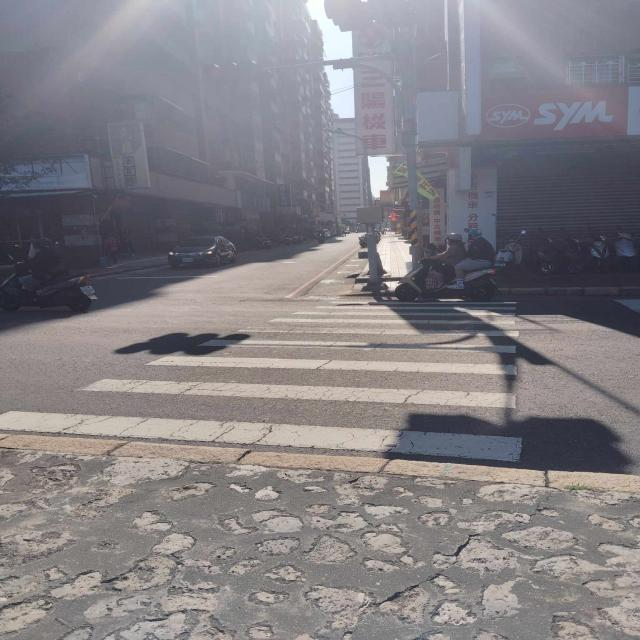zebra_crossing: (333, 89, 337, 512)
